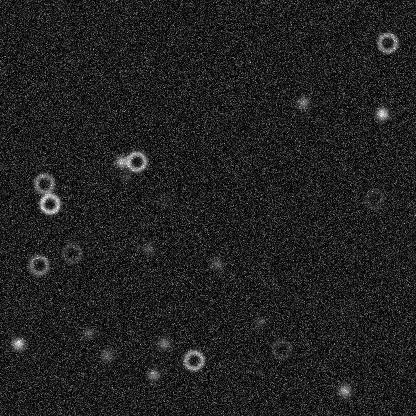Ring: (124, 149, 148, 173), (26, 252, 50, 276), (181, 348, 205, 372), (362, 187, 386, 211), (59, 241, 83, 265), (37, 191, 61, 215), (269, 336, 293, 360), (32, 171, 56, 195), (375, 30, 399, 54)
Spot: (140, 240, 156, 256), (113, 153, 129, 169), (155, 193, 171, 209), (10, 335, 26, 351), (336, 382, 352, 398), (98, 347, 114, 363), (156, 335, 172, 351), (374, 105, 390, 121), (252, 313, 268, 329), (294, 94, 310, 110), (118, 168, 134, 184), (80, 325, 96, 341), (145, 366, 161, 382), (208, 255, 224, 271)
